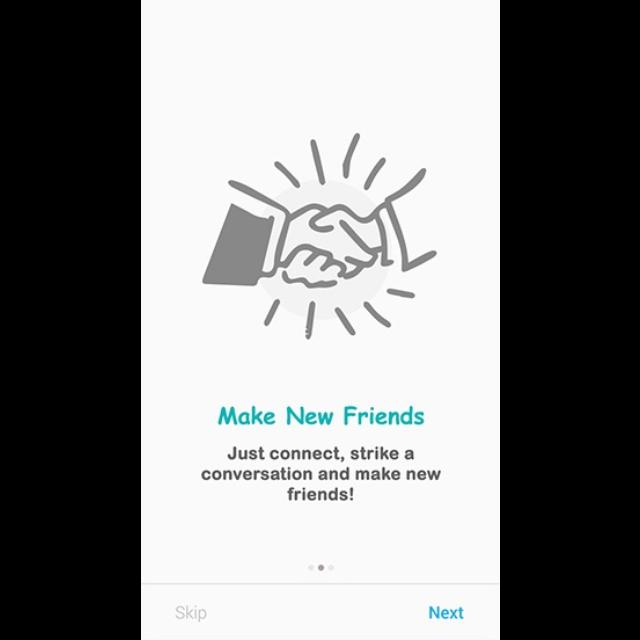image: (202, 133, 436, 341)
pageindicator: (308, 564, 334, 572)
text: (200, 446, 442, 502), (216, 406, 424, 426), (175, 604, 207, 624), (430, 606, 464, 620)
